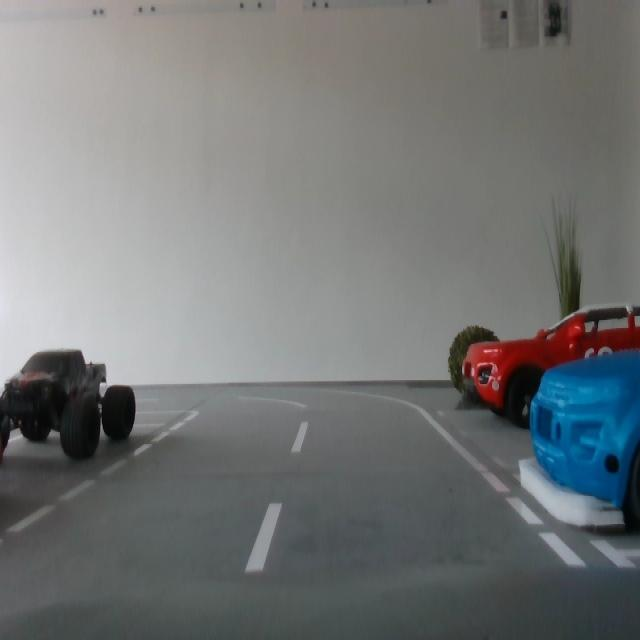car: (462, 304, 640, 429), (530, 348, 640, 530), (1, 348, 136, 465)
potted plant: (544, 192, 585, 359), (449, 324, 504, 396)
